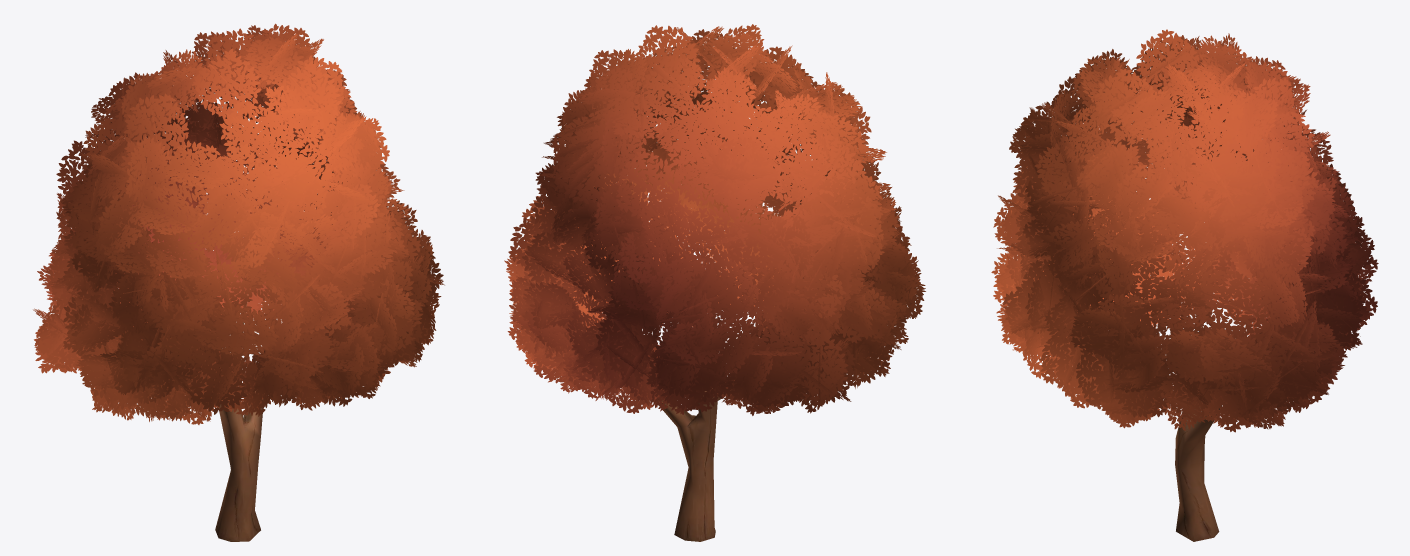
File: tree02-z94rryn0.glb
3 views of the same model, side by side, from view 1: azimuth 30°, elevation 25°; view 2: azimuth 150°, elevation 25°; view 3: azimuth 270°, elevation 25° (orthographic). The views are drawn at different scales.
Parts seen in each view (by area): view 1: tree02; view 2: tree02; view 3: tree02.
Boxes of the visible parts, x1,y1,x2,y2 form: tree02: [33, 23, 444, 541]; tree02: [504, 24, 925, 541]; tree02: [991, 29, 1378, 541].
Bounding box in the file's own units: 13.77 × 17.24 × 13.31.
Materials: 2 (2 with a texture image).
